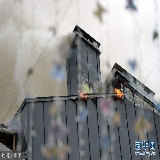fire: (114, 86, 124, 101), (78, 89, 88, 102)
